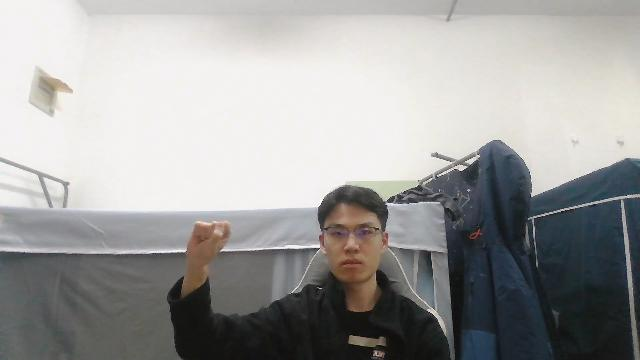ten: (183, 219, 233, 276)
